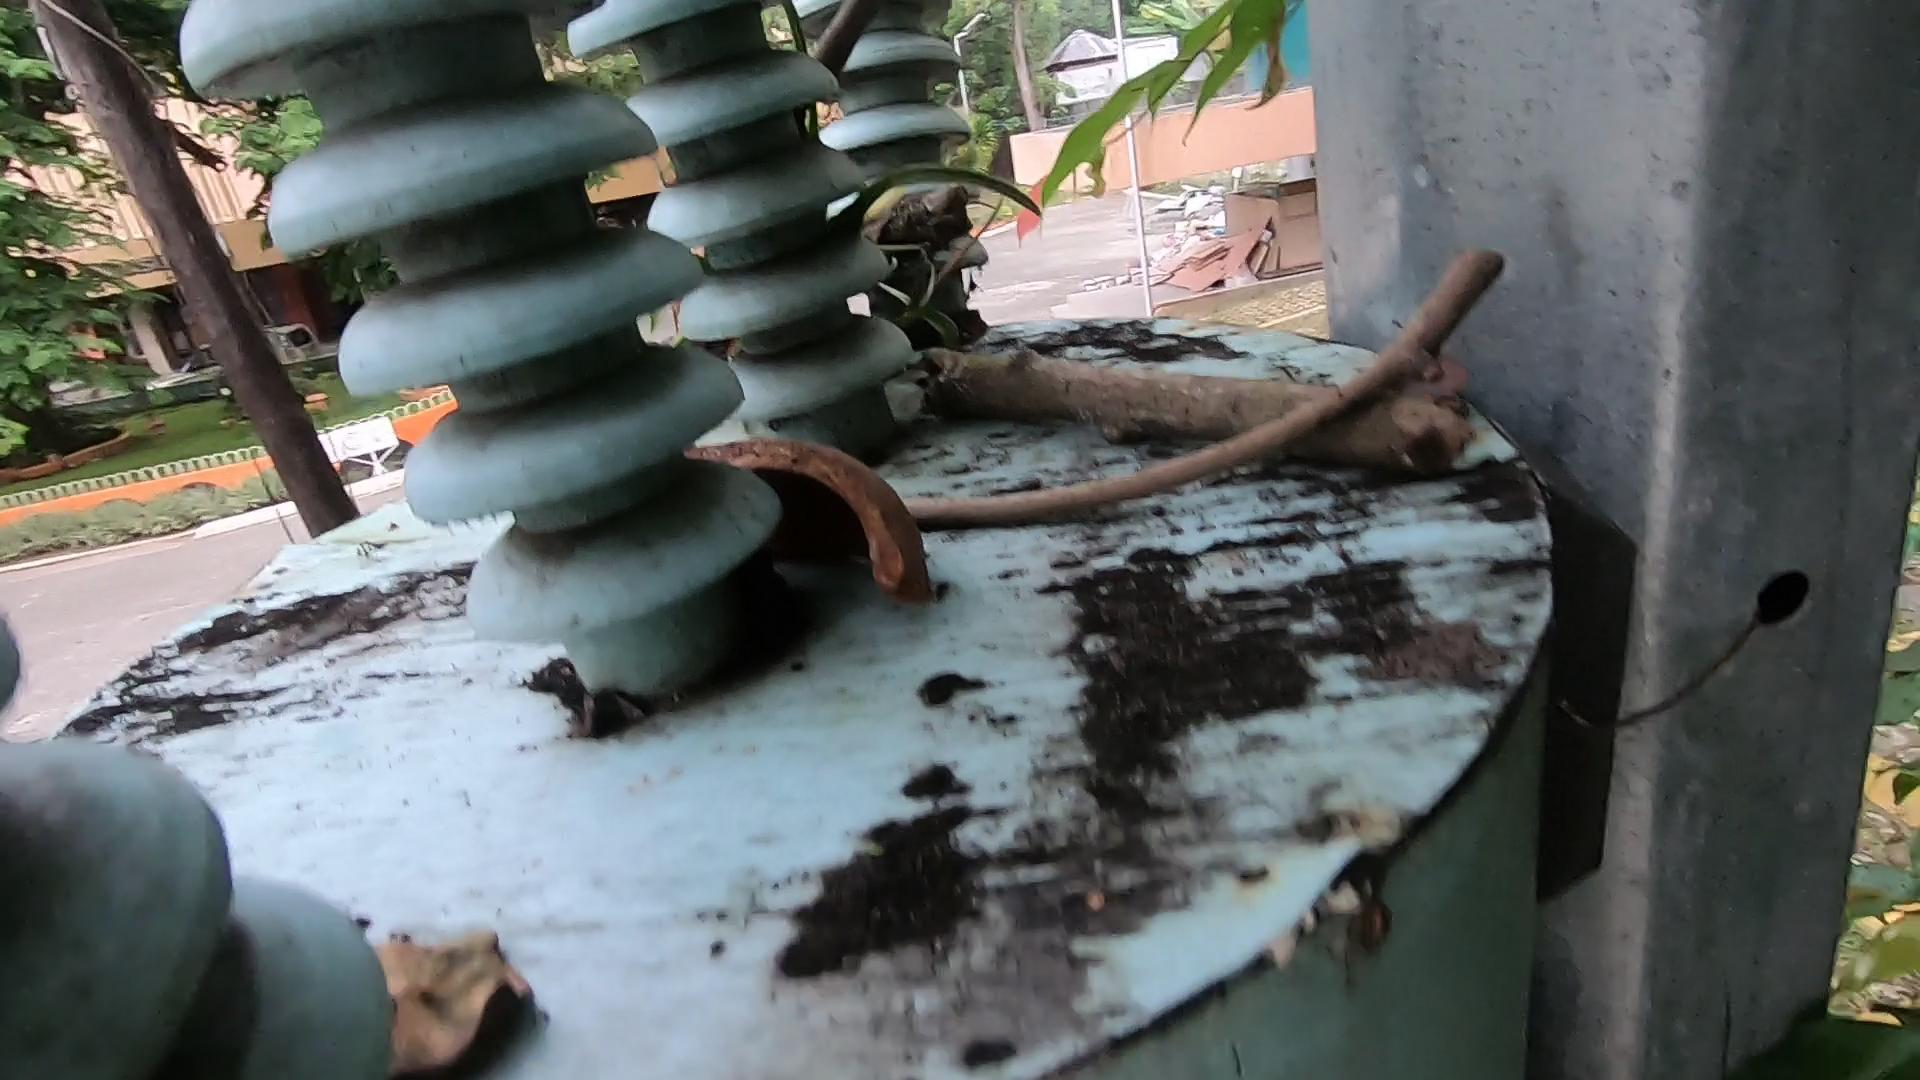branch with leaves: (833, 178, 1472, 505)
leaf: (331, 849, 492, 1080)
mahogany fruit: (628, 375, 1064, 585)
tree branch: (812, 237, 1497, 587), (810, 1, 887, 131)
